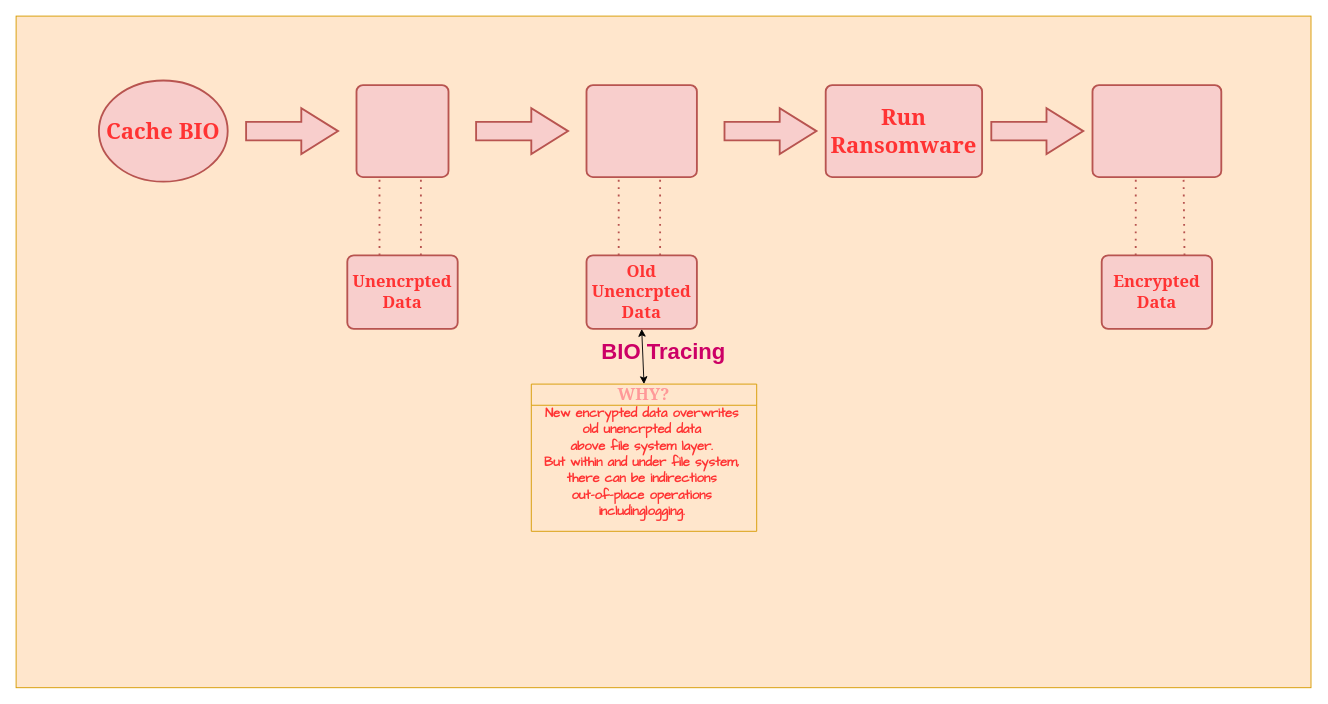
Image size: 1328x704. Some labels were removed from this diagram. Each missing label, with the centre of its shape:
"Build RB Tree Tracing" goes at (641,131).
"Flush BIO REQ" goes at (402,131).
"Update Encrypted" goes at (1156,131).
